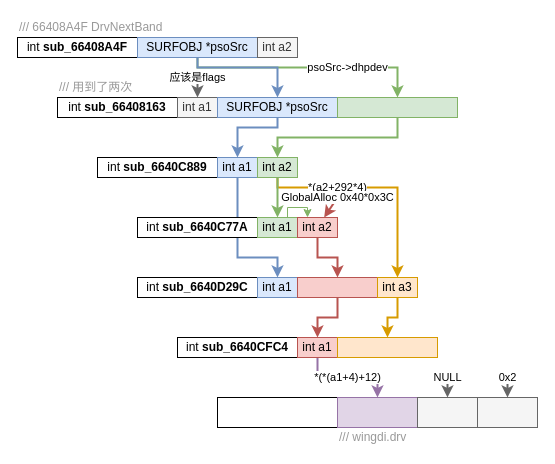
The diagram is 555 pixels wide and 464 high, and some of its shapes have lost their labels. The shapes that lost their labels are listed below. From the top down, each one's box as (x1, y1, x2, y2) in pixels, then its label:
(336, 96, 458, 118): DWORD pcReturn
(296, 276, 378, 298): _DWORD *a2
(336, 336, 438, 358): HMODULE *a2
(216, 396, 338, 428): HMODULE LoadLibraryExW
(336, 396, 418, 428): LPCWSTR lpLibFileName
(416, 396, 478, 428): HANDLE hFile
(476, 396, 538, 428): DWORD dwFlags
